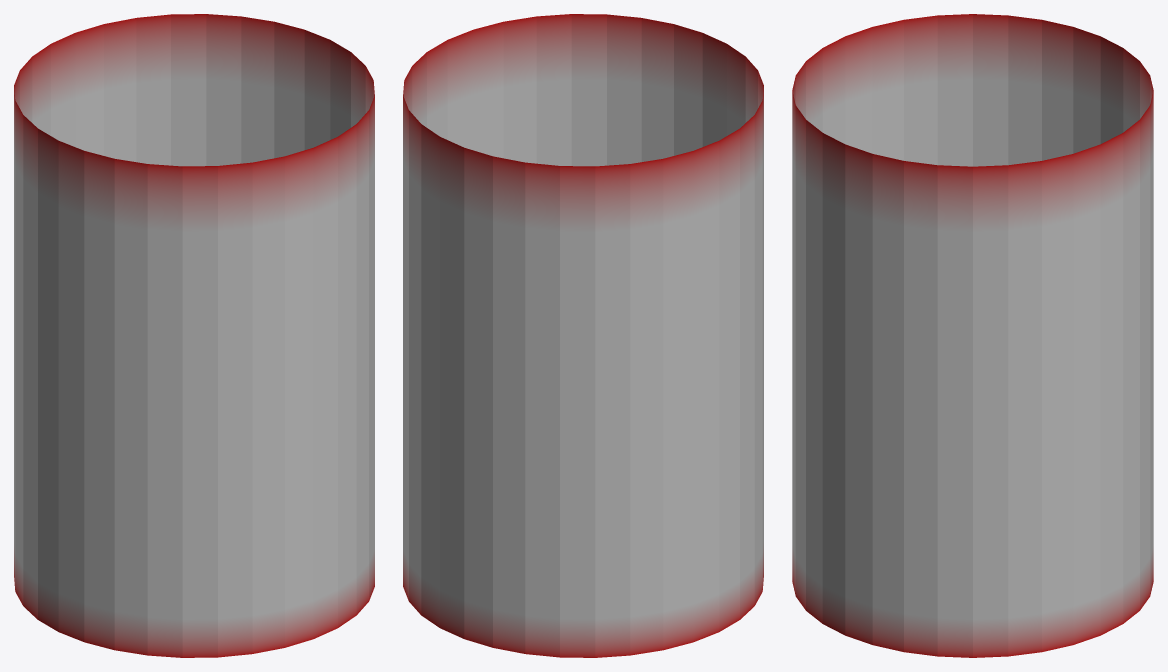
The model's file is SM_SandRing_2.fbx.
3 renders of one model, left to right at view 1: azimuth 30°, elevation 25°; view 2: azimuth 150°, elevation 25°; view 3: azimuth 270°, elevation 25°, orthographic.
Parts seen in each view (by area): view 1: SandRing2; view 2: SandRing2; view 3: SandRing2.
Part boxes in pixels (x1,y1,x2,y2): SandRing2: (14, 14, 374, 657); SandRing2: (403, 14, 763, 657); SandRing2: (792, 14, 1153, 657).
Bounding box in the file's own units: 2 × 3 × 2.
